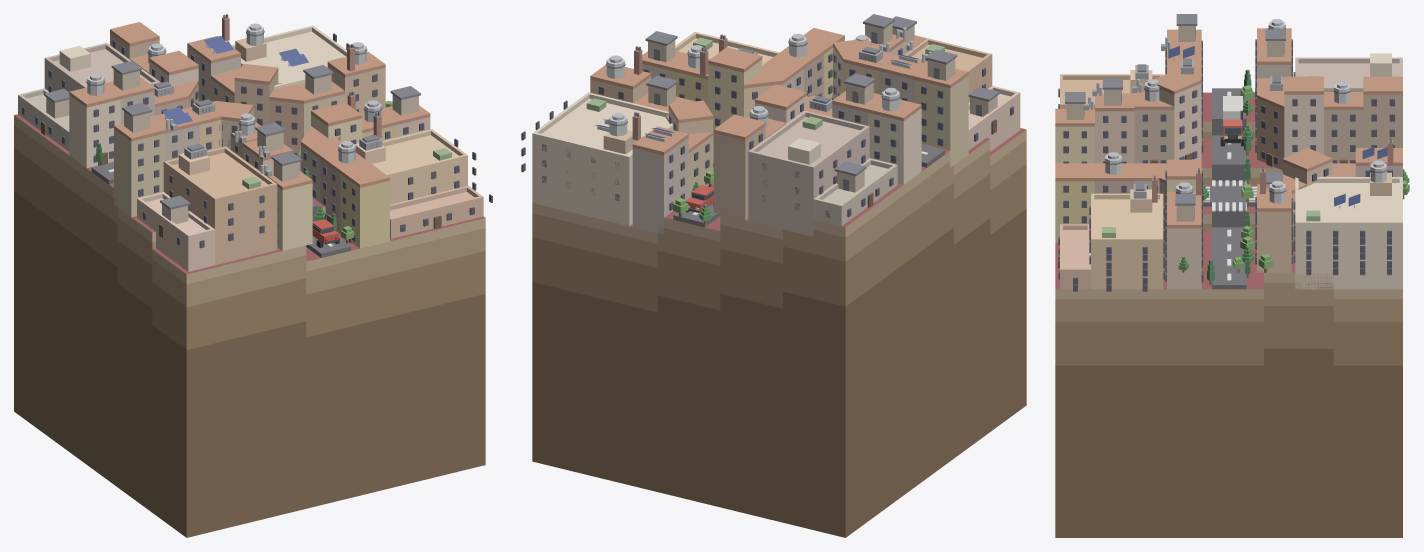
File: block_17_leakingdam_0.glb
3 views of the same model, side by side, from view 1: azimuth 30°, elevation 25°; view 2: azimuth 150°, elevation 25°; view 3: azimuth 270°, elevation 25° (orthographic). The views are drawn at different scales.
Visible parts, largest first — view 1: Patch_MidRight_b15_LD, Cerda_MidRight_b15_LD, Insets_MidRight_b15_LD, CerdaRoofProps_MidRight_b15_LD, Roads_MidRight_b15_LD, Asset_Car.036_LD; view 2: Patch_MidRight_b15_LD, Cerda_MidRight_b15_LD, Insets_MidRight_b15_LD, CerdaRoofProps_MidRight_b15_LD, Roads_MidRight_b15_LD; view 3: Patch_MidRight_b15_LD, Cerda_MidRight_b15_LD, Insets_MidRight_b15_LD, CerdaRoofProps_MidRight_b15_LD, Roads_MidRight_b15_LD, Asset_Truck.009_LD, Zebra_MidRight_b15_LD.
Boxes of the visible parts, x1,y1,x2,y2 form: Patch_MidRight_b15_LD: (14,114,485,537); Cerda_MidRight_b15_LD: (69,22,430,250); Insets_MidRight_b15_LD: (18,25,492,271); CerdaRoofProps_MidRight_b15_LD: (44,14,420,223); Roads_MidRight_b15_LD: (91,162,351,257); Asset_Car.036_LD: (312,219,339,247); Patch_MidRight_b15_LD: (532,128,1026,537); Cerda_MidRight_b15_LD: (590,28,968,234); Insets_MidRight_b15_LD: (521,32,1020,236); CerdaRoofProps_MidRight_b15_LD: (595,14,999,192); Roads_MidRight_b15_LD: (673,144,944,227); Patch_MidRight_b15_LD: (1055,92,1402,537); Cerda_MidRight_b15_LD: (1055,28,1402,289); Insets_MidRight_b15_LD: (1058,53,1402,291); CerdaRoofProps_MidRight_b15_LD: (1065,14,1393,221); Roads_MidRight_b15_LD: (1203,88,1256,289); Asset_Truck.009_LD: (1220,96,1244,146); Zebra_MidRight_b15_LD: (1203,180,1256,211).
Bounding box in the file's own units: 10 × 11.5 × 9.68.
